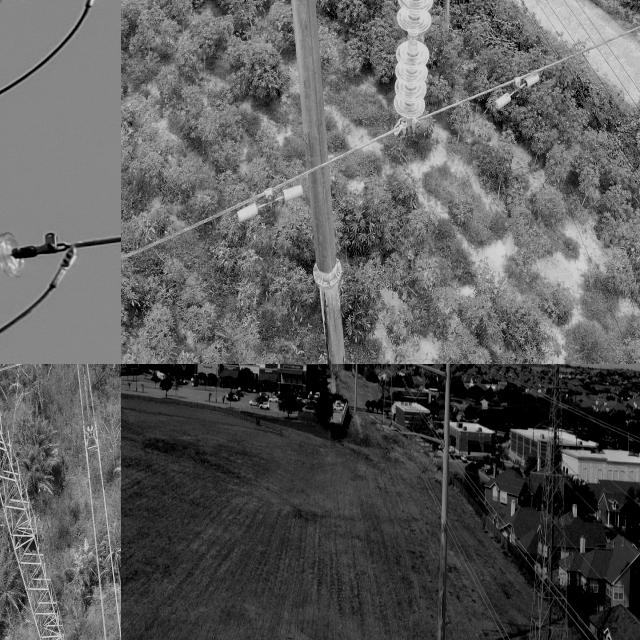杆塔: (0, 364, 121, 640), (525, 364, 574, 640), (377, 364, 400, 432)
正常电缆: (121, 10, 640, 269)
正常绝缘子: (389, 0, 437, 139), (0, 224, 62, 315), (80, 364, 93, 432), (401, 376, 418, 404), (413, 377, 429, 404)
绝缘子破损: (406, 34, 419, 46)
